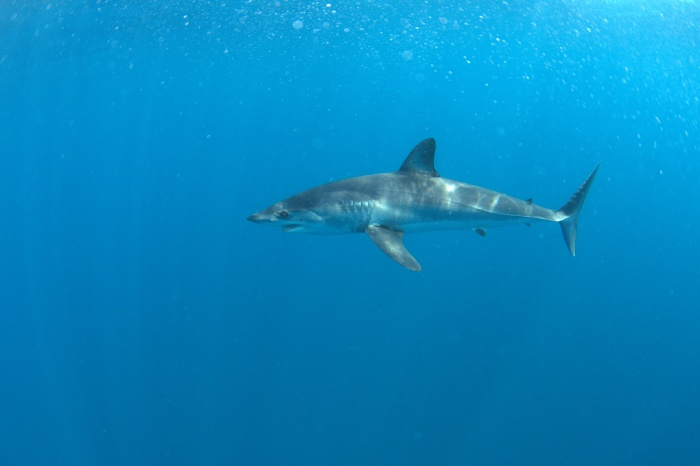Mako: (241, 130, 600, 277)
